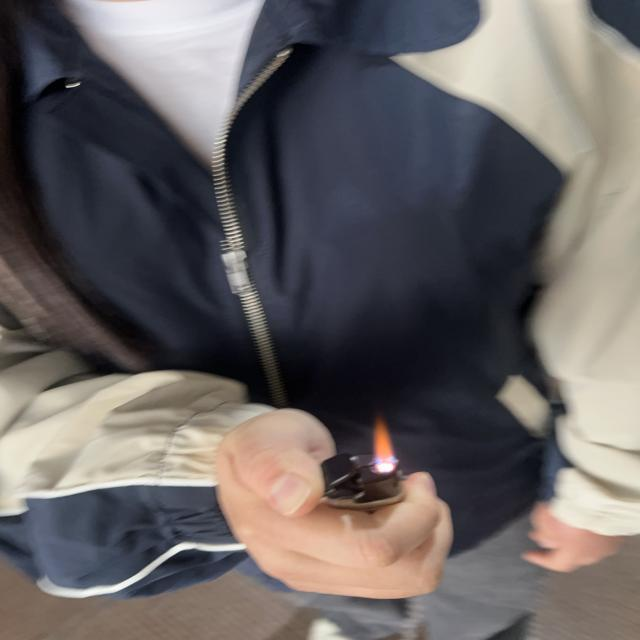fire: (372, 422, 400, 466)
